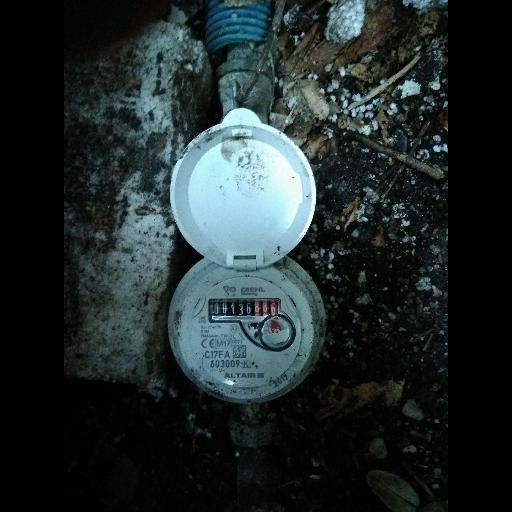0: (213, 302, 221, 316), (221, 302, 229, 316)
1: (229, 302, 237, 317)
3: (237, 302, 245, 317)
6: (245, 302, 253, 317), (270, 302, 278, 315)
8: (261, 301, 271, 316), (253, 302, 261, 317)
border_water_meter_number: (209, 298, 282, 323)
